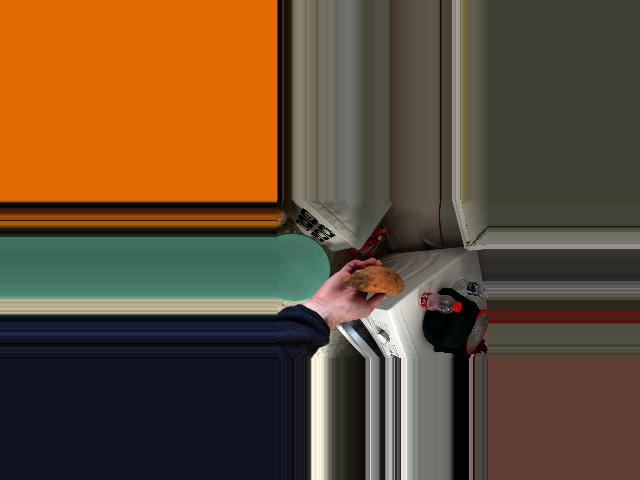sweet_potato: (341, 269, 407, 298)
